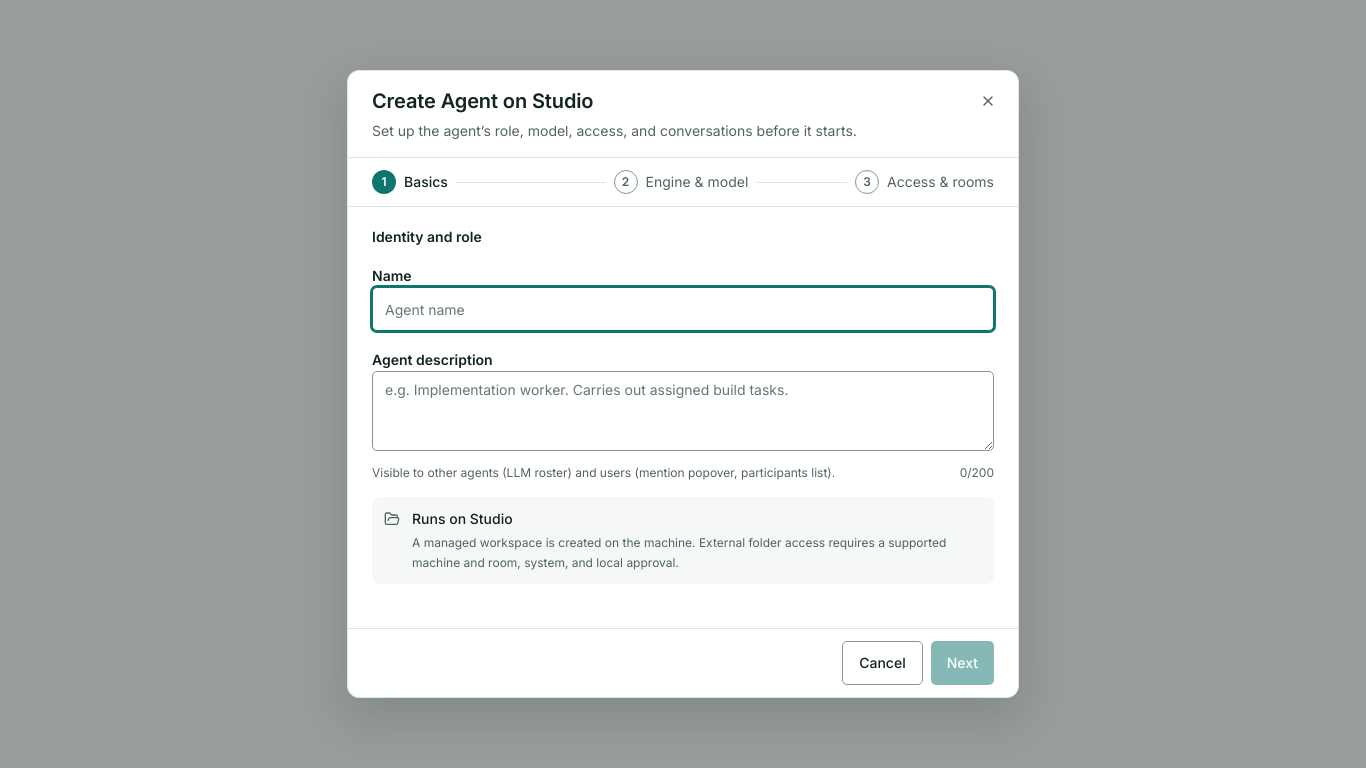
Test: does not report an empty room list while loading
The image size is (1366, 768).
Type "Reviewer" into the field labelled "Name" at (683, 309), box [372,287,994,331]
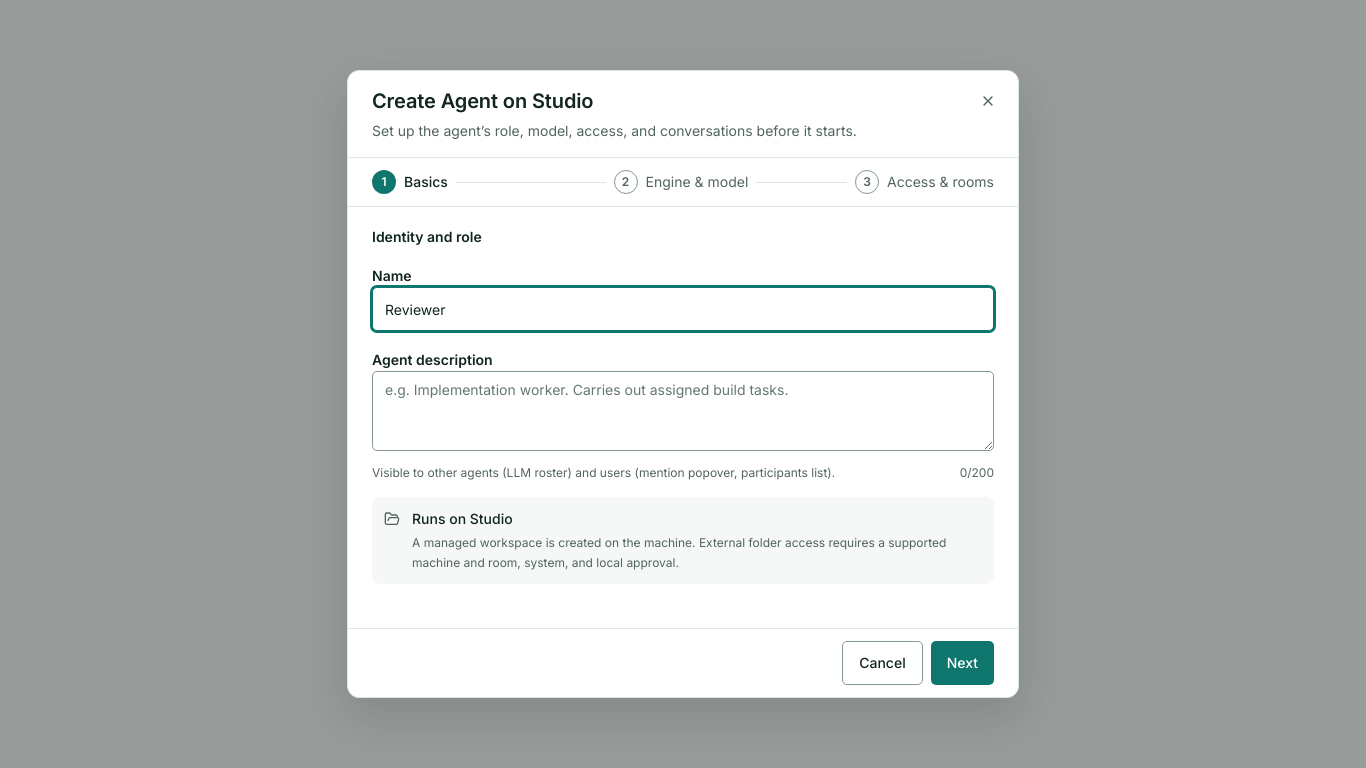
Click the button "Next" at (962, 663), box [931,641,994,685]
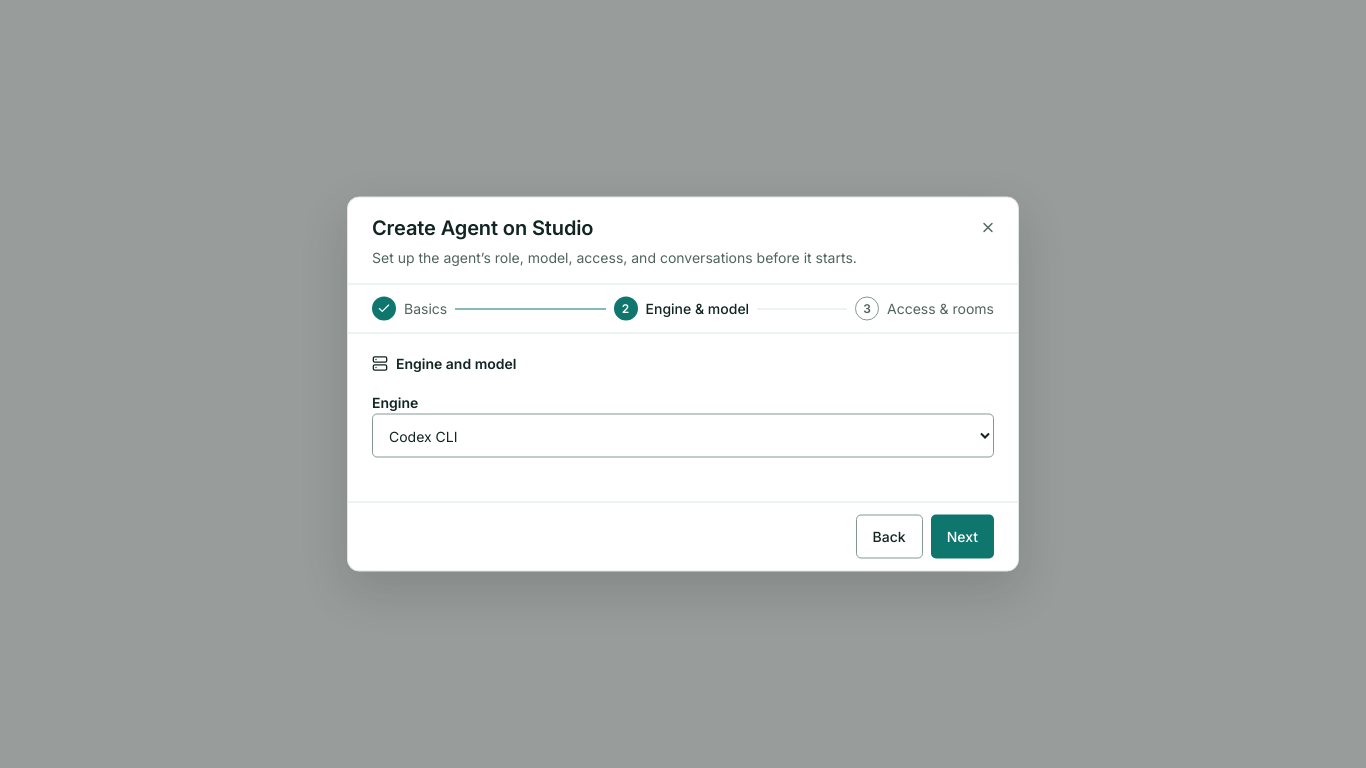
Click the button "Next" at (962, 536), box [931,514,994,558]
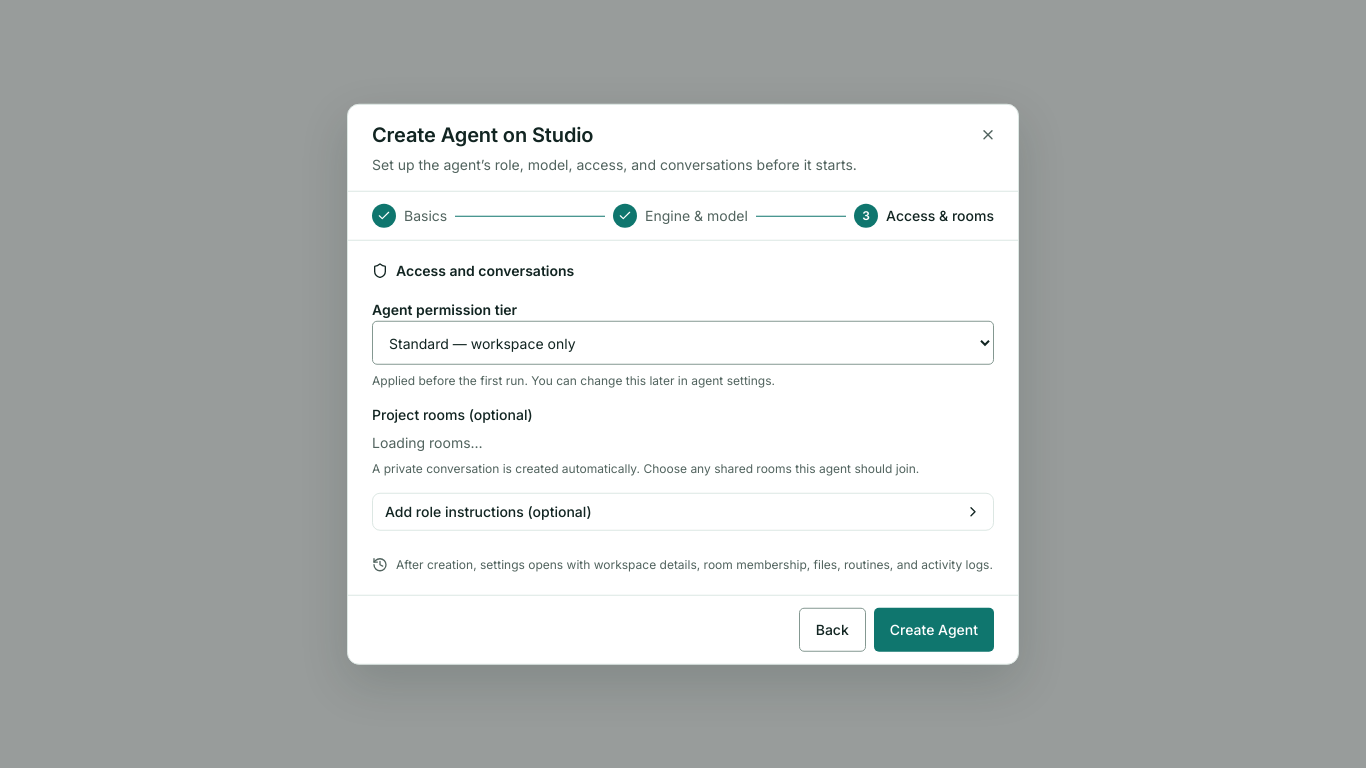
Result: the message shows "Loading" at [372,434,483,451]
